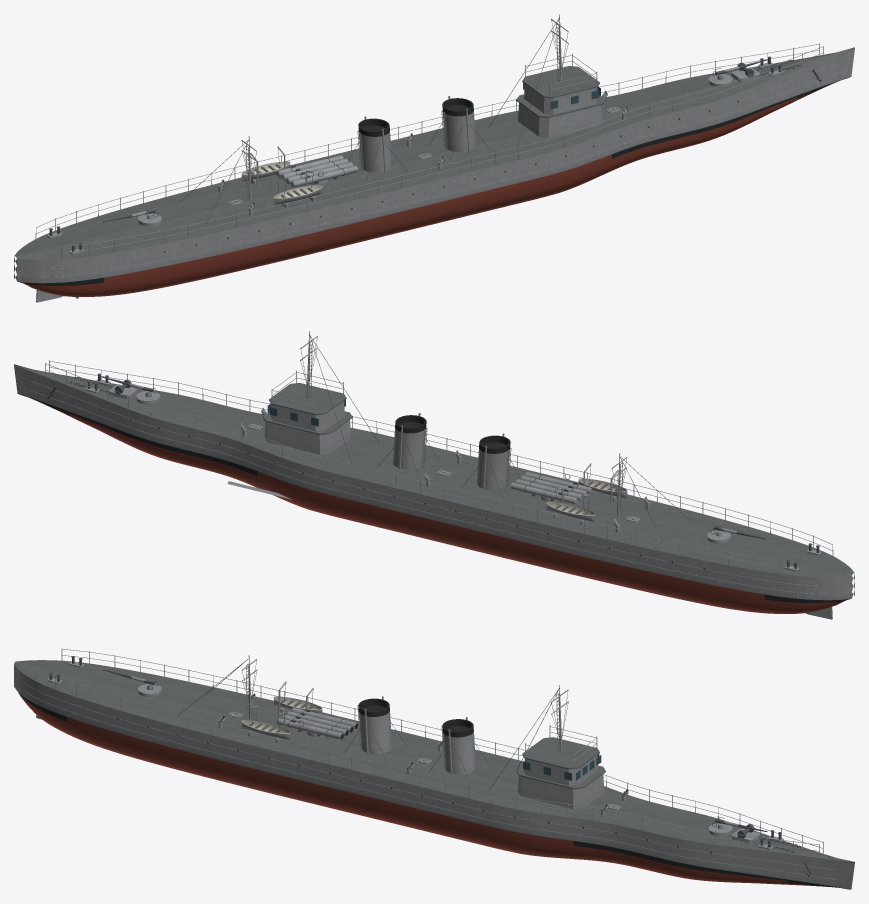
The picture shows the model from 3 angles, top to bottom: view 1: azimuth 30°, elevation 25°; view 2: azimuth 150°, elevation 25°; view 3: azimuth 330°, elevation 25°; orthographic projection.
Visible parts, largest first — view 1: V1 class; view 2: V1 class; view 3: V1 class.
Part boxes in pixels (x1=…): V1 class: x1=14, y1=14, x2=854, y2=302; V1 class: x1=14, y1=331, x2=854, y2=619; V1 class: x1=14, y1=648, x2=854, y2=889.
Size of the model in its own units: 71.1 by 13.17 by 7.69.
Materials: 8 (2 with a texture image).
